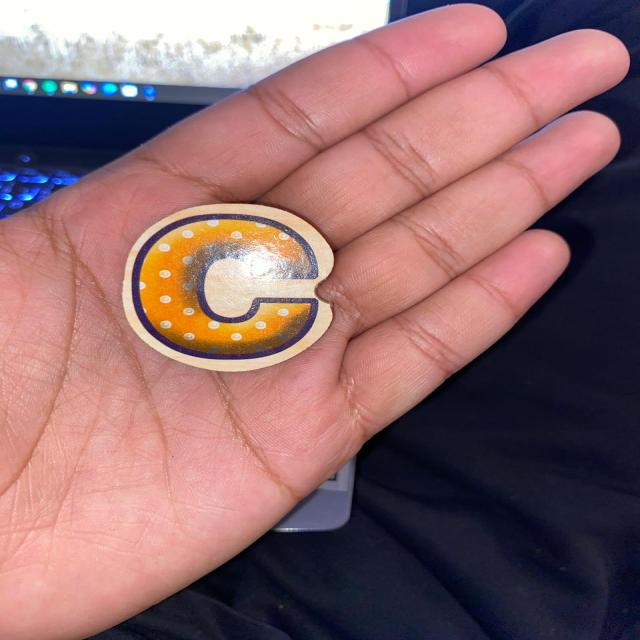C: (122, 204, 332, 371)
